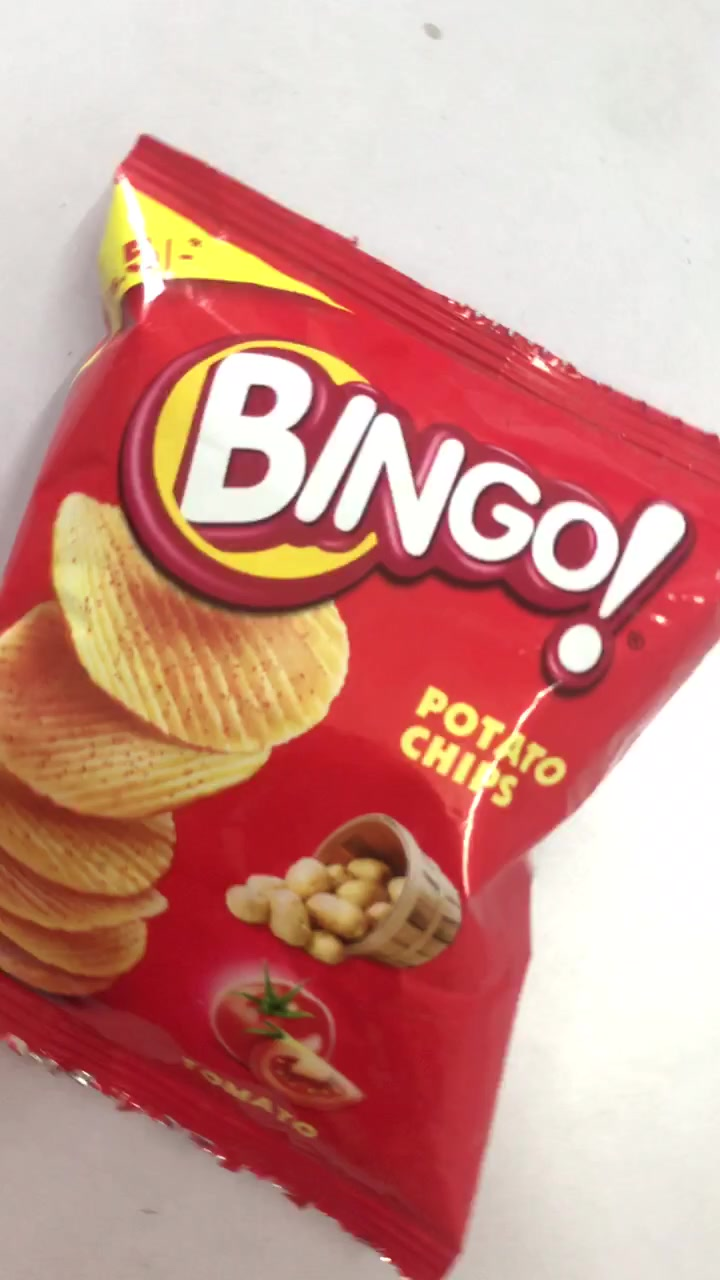Bingo: (16, 150, 720, 1204)
